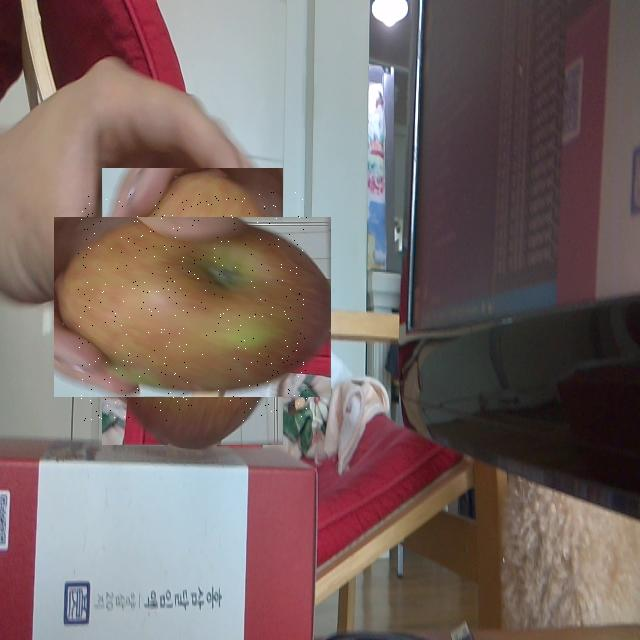apple: (78, 192, 307, 421)
